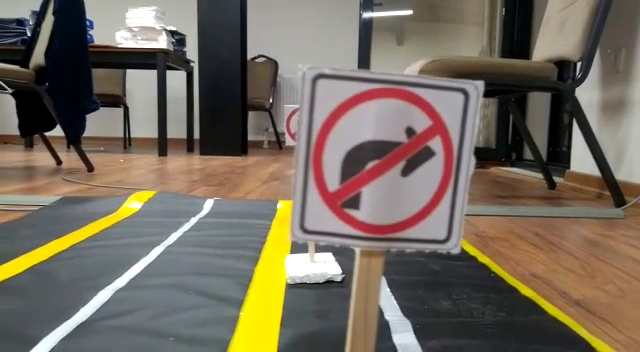saga_donulmez: (306, 85, 459, 235)
